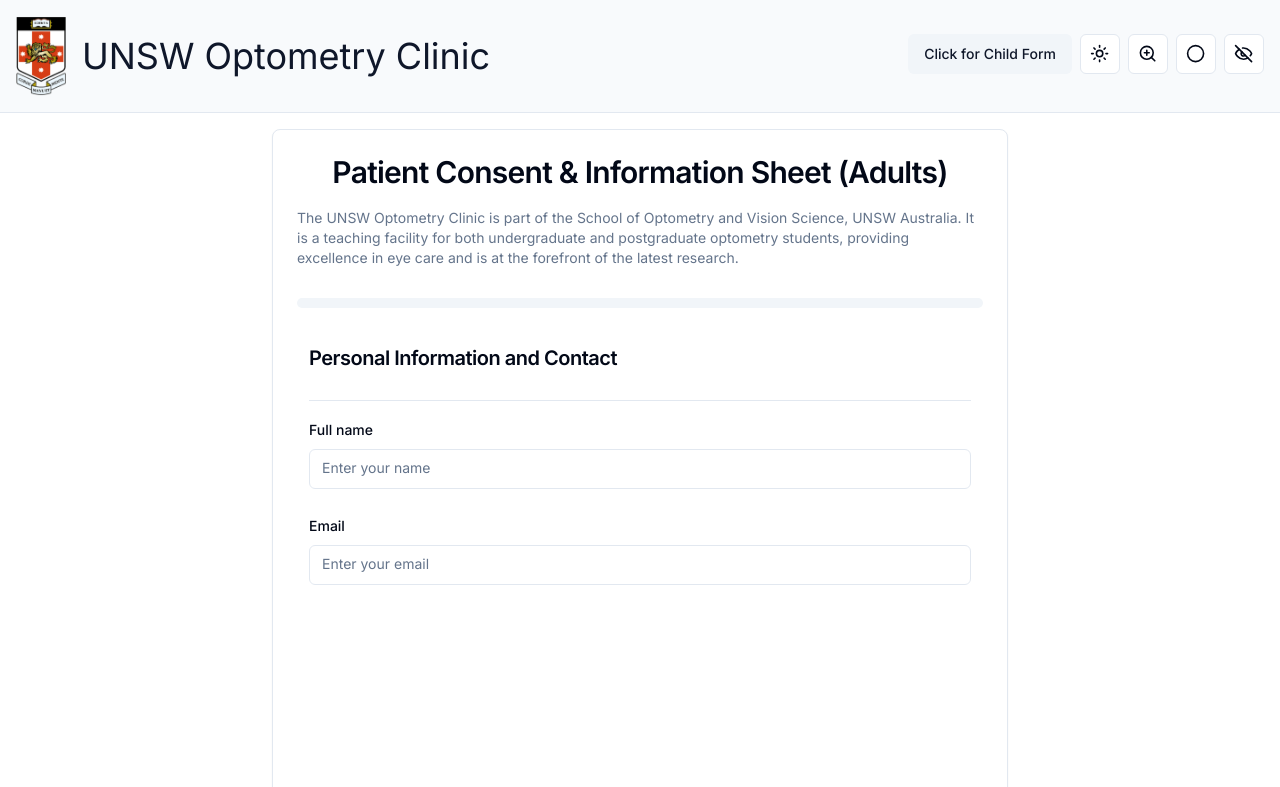
Scenario: NameStep Component › should allow switching to the child form
The width and height of the screenshot is (1280, 787).
Click the button "Click for Child Form".
click(990, 54)  # box [908,34,1072,74]
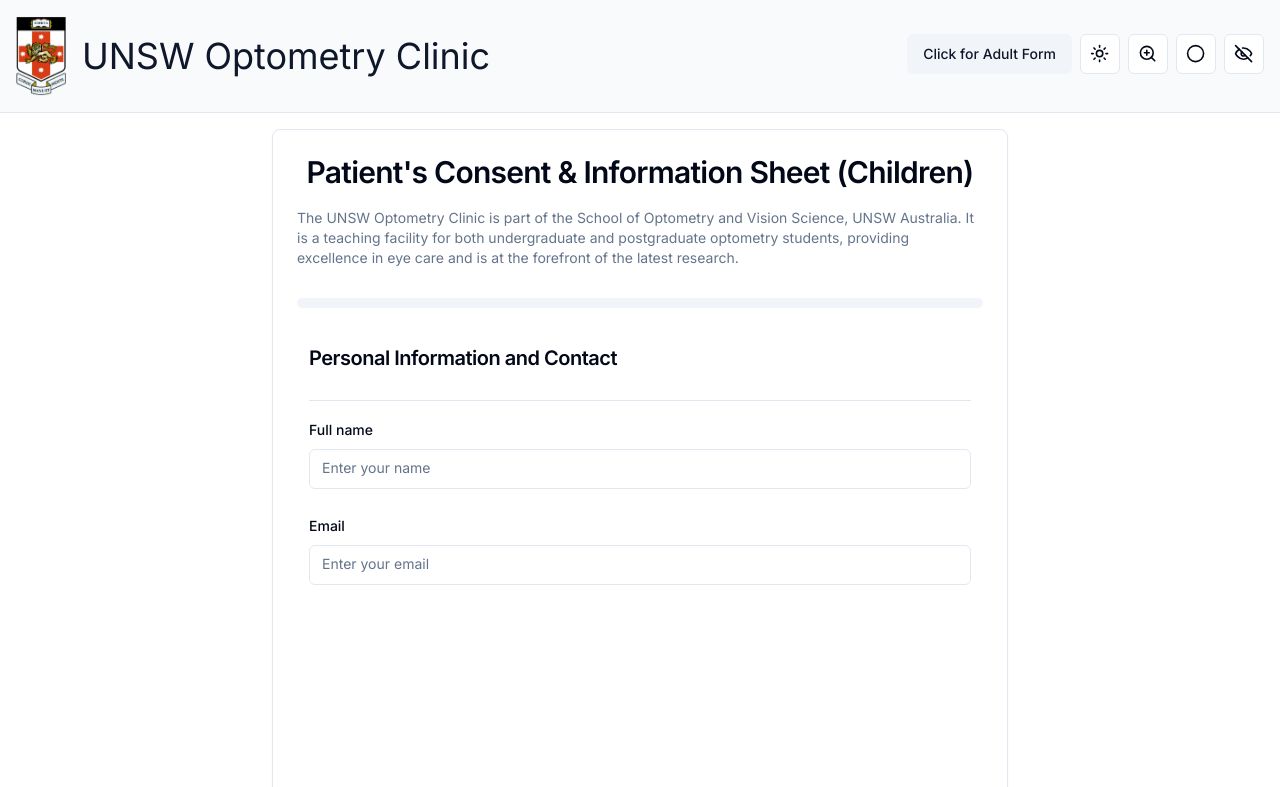
Expected: the heading "Patient's Consent & Information Sheet (Children)" is shown, [297,154,983,202]
